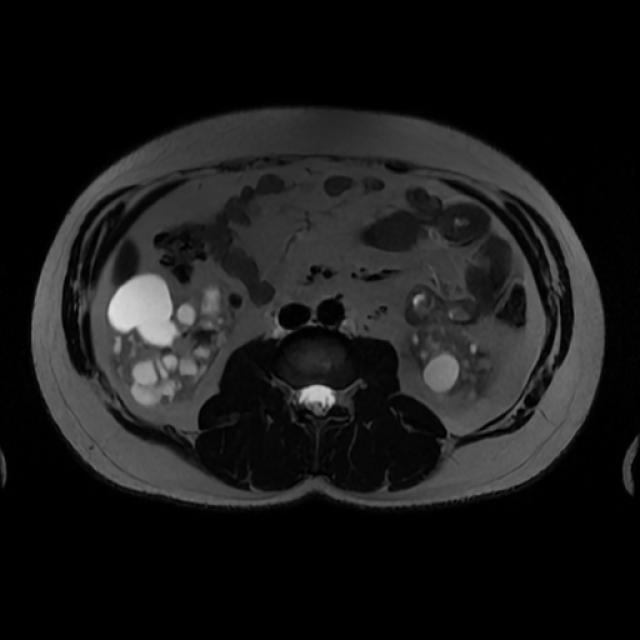sag: (104, 273, 238, 410)
sol: (405, 324, 497, 406)
